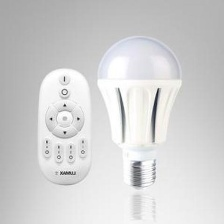light_bulb: (93, 32, 186, 196)
